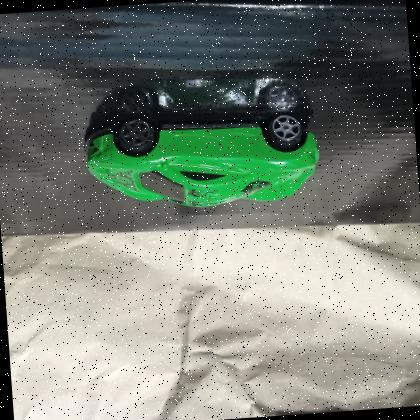Car: (84, 113, 320, 207)
